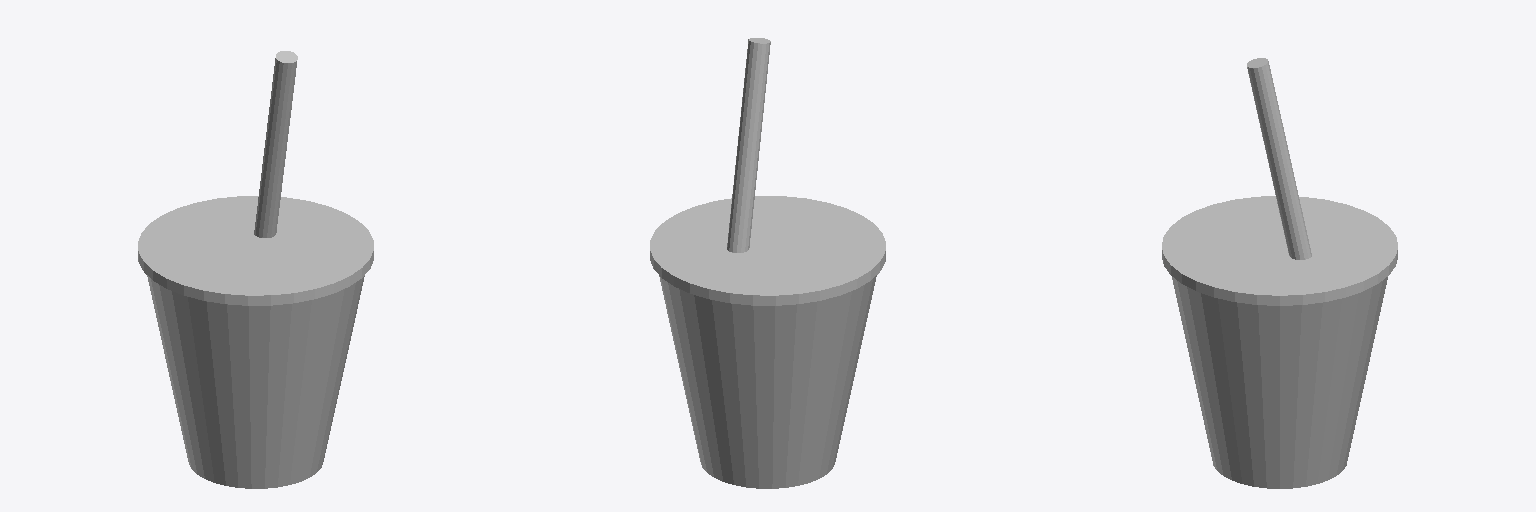
The model's file is sodaCup.obj.
The picture shows the model from 3 angles: view 1: azimuth 30°, elevation 25°; view 2: azimuth 150°, elevation 25°; view 3: azimuth 270°, elevation 25°; orthographic projection.
Parts seen in each view (by area): view 1: SodaCup; view 2: SodaCup; view 3: SodaCup.
Boxes of the visible parts, box(x1,y1,x2,y2) form: SodaCup: box(138, 51, 373, 488); SodaCup: box(650, 38, 885, 488); SodaCup: box(1162, 58, 1397, 488).
Bounding box in the file's own units: 2.1 × 4 × 2.1.